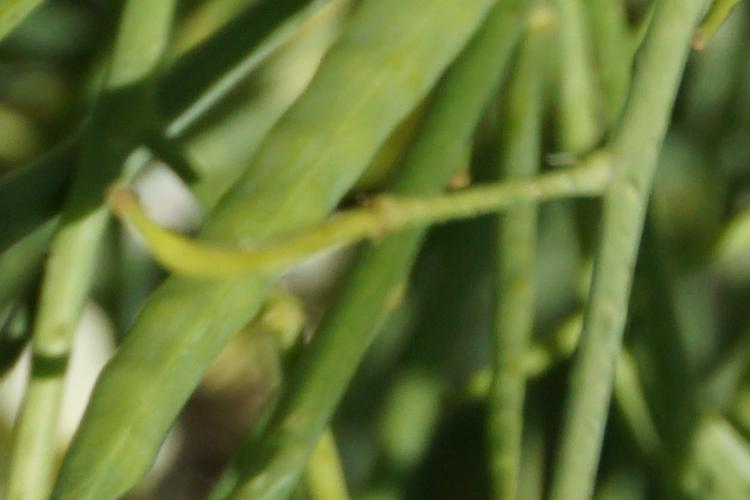pod: (91, 181, 413, 278)
